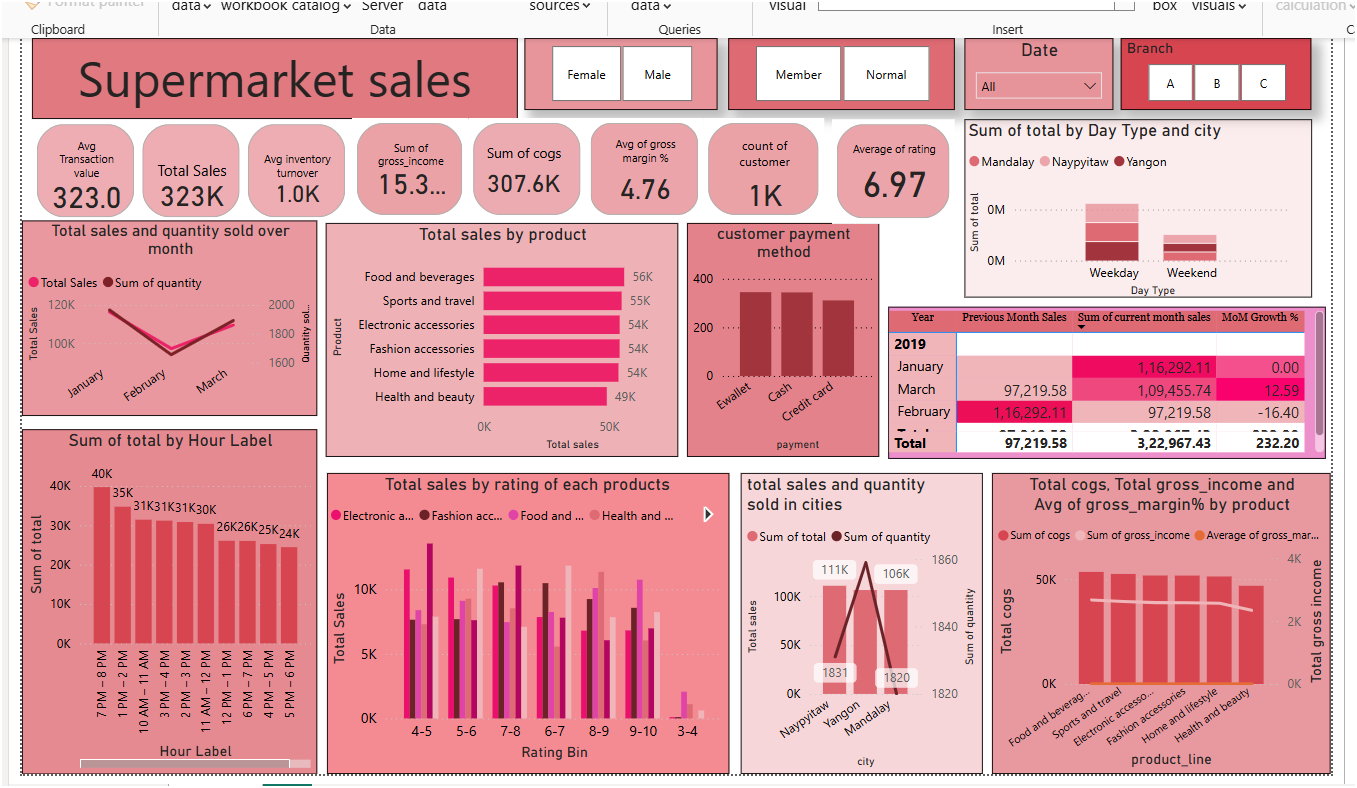

The page's visual inventory and layout, read from the dashboard file:
{"tool":"powerbi","page":{"name":"Page 1","canvas":[1280,720],"ordinal":0},"visuals":[{"type":"textbox","box":[10,0,475.6,78.9],"z":0},{"type":"cardVisual","fields":{"Data":["public market.ATV","public market.Total Sales","Avg(public market.Inventory Turnover)"]},"box":[10,78.9,312.2,100],"z":1000},{"type":"cardVisual","fields":{"Data":["Sum(public market.gross_income)"]},"box":[322.5,78.8,113.8,100],"z":2000},{"type":"slicer","fields":{"Values":["public market.gender"]},"box":[491.2,0,188.8,70],"z":3000},{"type":"slicer","fields":{"Values":["public market.customer_type"]},"box":[691.2,0,221.2,70],"z":4000},{"type":"cardVisual","fields":{"Data":["Sum(public market.cogs)"]},"box":[436.2,78.8,115,100],"z":5000},{"type":"pivotTable","fields":{"Values":["public market.Previous Month Sales","Sum(public market.current month sales)","public market.MoM Growth %"],"Rows":["public market.date.Variation.Date Hierarchy.Year","public market.date.Variation.Date Hierarchy.Month"]},"box":[847,263,427.8,148.9],"z":6000},{"type":"lineChart","title":"Total sales and quantity sold over month","fields":{"Category":["public market.date.Variation.Date Hierarchy.Month"],"Y":["public market.Total Sales"],"Y2":["Sum(public market.quantity)"]},"box":[0,178.8,288.8,191.2],"z":7000},{"type":"barChart","title":"Total sales by product","fields":{"Category":["public market.product_line"],"Y":["Sum(public market.total)"]},"box":[297.5,181.2,345,228.8],"z":8000},{"type":"lineStackedColumnComboChart","title":"total sales and quantity sold in cities","fields":{"Category":["public market.city"],"Y":["Sum(public market.total)"],"Y2":["Sum(public market.quantity)"]},"box":[702.6,425.6,236.6,294.3],"z":9000},{"type":"clusteredColumnChart","title":"Total sales by rating of  each products ","fields":{"Series":["public market.product_line"],"Category":["public market.Rating Bin"],"Y":["public market.Total Sales"]},"box":[297.8,425.6,393.3,294.4],"z":10000},{"type":"cardVisual","title":"Avg of gross income percentage","fields":{"Data":["Avg(public market.gross_margin_percent)"]},"box":[551.2,78.8,115,100],"z":11000},{"type":"columnChart","title":"customer payment method","fields":{"Category":["public market.payment"],"Y":["CountNonNull(public market.invoice_id)"]},"box":[651.1,181.1,187.8,228.9],"z":12000},{"type":"clusteredColumnChart","fields":{"Category":["public market.Hour Label"],"Y":["Sum(public market.total)"]},"box":[0,382.2,288.9,337.8],"z":13000},{"type":"lineStackedColumnComboChart","title":"Total cogs, Total gross_income and Avg of gross_margin% by product","fields":{"Category":["public market.product_line"],"Y":["Sum(public market.cogs)"],"Y2":["Sum(public market.gross_income)","Avg(public market.gross_margin_percent)"]},"box":[948.9,425.6,331.1,294.4],"z":14000},{"type":"slicer","title":"Date","fields":{"Values":["public market.date","public market.date.Variation.Date Hierarchy.Year","public market.date.Variation.Date Hierarchy.Month","public market.date.Variation.Date Hierarchy.Day"]},"box":[922.2,0,145.6,70],"z":15000},{"type":"slicer","title":"Branch","fields":{"Values":["public market.branch"]},"box":[1075,0,186.2,70],"z":16000},{"type":"cardVisual","fields":{"Data":["Count(public market.invoice_id)"]},"box":[666.2,78.8,118.8,100],"z":17000},{"type":"cardVisual","fields":{"Data":["Avg(public market.rating)"]},"box":[792.2,78.9,120,102.2],"z":18000},{"type":"columnChart","fields":{"Category":["public market.Day Type"],"Y":["Sum(public market.total)"],"Series":["public market.city"]},"box":[922.2,78.9,340,174.4],"z":19000}]}

Visuals, with their boxes in screenshot pixels (x1, y1, x2, y2):
textbox: [25, 32, 522, 114]
cardVisual - public market.ATV x public market.Total Sales: [25, 114, 351, 219]
cardVisual - Sum(public market.gross_income): [351, 114, 470, 219]
slicer - public market.gender: [528, 32, 725, 105]
slicer - public market.customer_type: [737, 32, 968, 105]
cardVisual - Sum(public market.cogs): [470, 114, 590, 219]
pivotTable - public market.Previous Month Sales x Sum(public market.current month sales): [900, 307, 1347, 462]
"Total sales and quantity sold over month" lineChart: [14, 219, 316, 419]
"Total sales by product" barChart: [325, 221, 686, 460]
"total sales and quantity sold in cities" lineStackedColumnComboChart: [749, 477, 996, 784]
"Total sales by rating of  each products " clusteredColumnChart: [325, 477, 737, 785]
"Avg of gross income percentage" cardVisual: [590, 114, 711, 219]
"customer payment method" columnChart: [695, 221, 891, 460]
clusteredColumnChart - public market.Hour Label x Sum(public market.total): [14, 431, 316, 785]
"Total cogs, Total gross_income and Avg of gross_margin% by product" lineStackedColumnComboChart: [1006, 477, 1352, 785]
"Date" slicer: [978, 32, 1131, 105]
"Branch" slicer: [1138, 32, 1333, 105]
cardVisual - Count(public market.invoice_id): [711, 114, 835, 219]
cardVisual - Avg(public market.rating): [842, 114, 968, 221]
columnChart - public market.Day Type x Sum(public market.total): [978, 114, 1334, 297]
